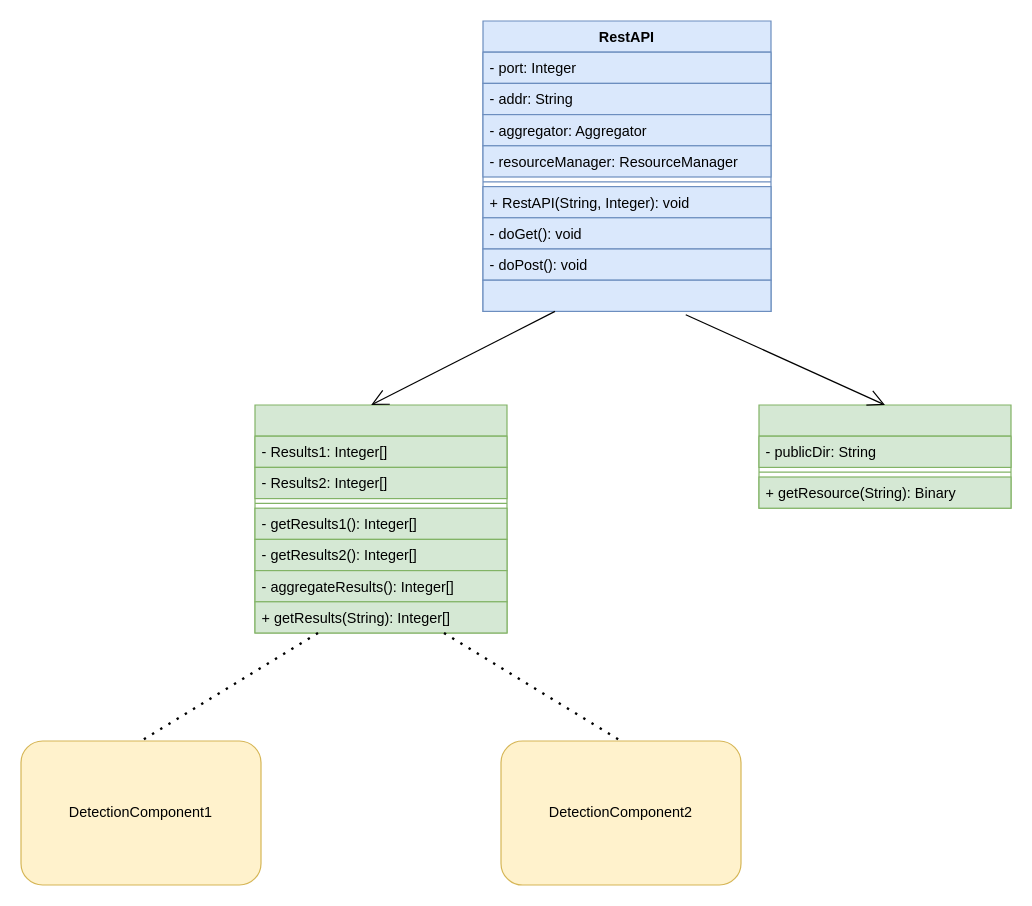
Some shapes in this 1032 by 906 pixel diagram are drawn without their labels. The box of each missing label's shape, as (x1, y1, x2, y2) in pixels:
+ start(): void: (482, 279, 771, 311)
Aggregator: (254, 404, 507, 633)
ResourceManager: (758, 404, 1011, 508)
